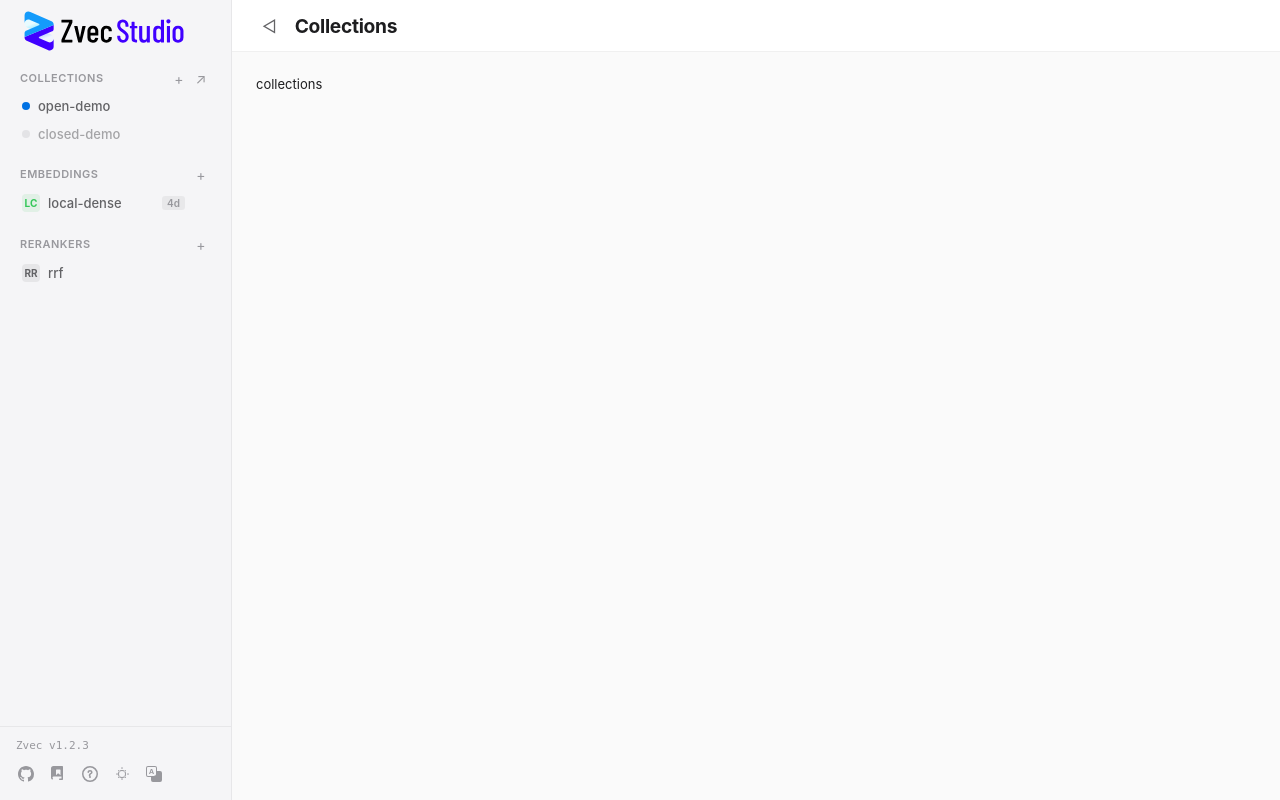
Test case: AppShell › opens the import-collection dialog from the "+" menu
Click the button with test id "zv-collections-add".
click(179, 78)  # box [169,68,189,88]
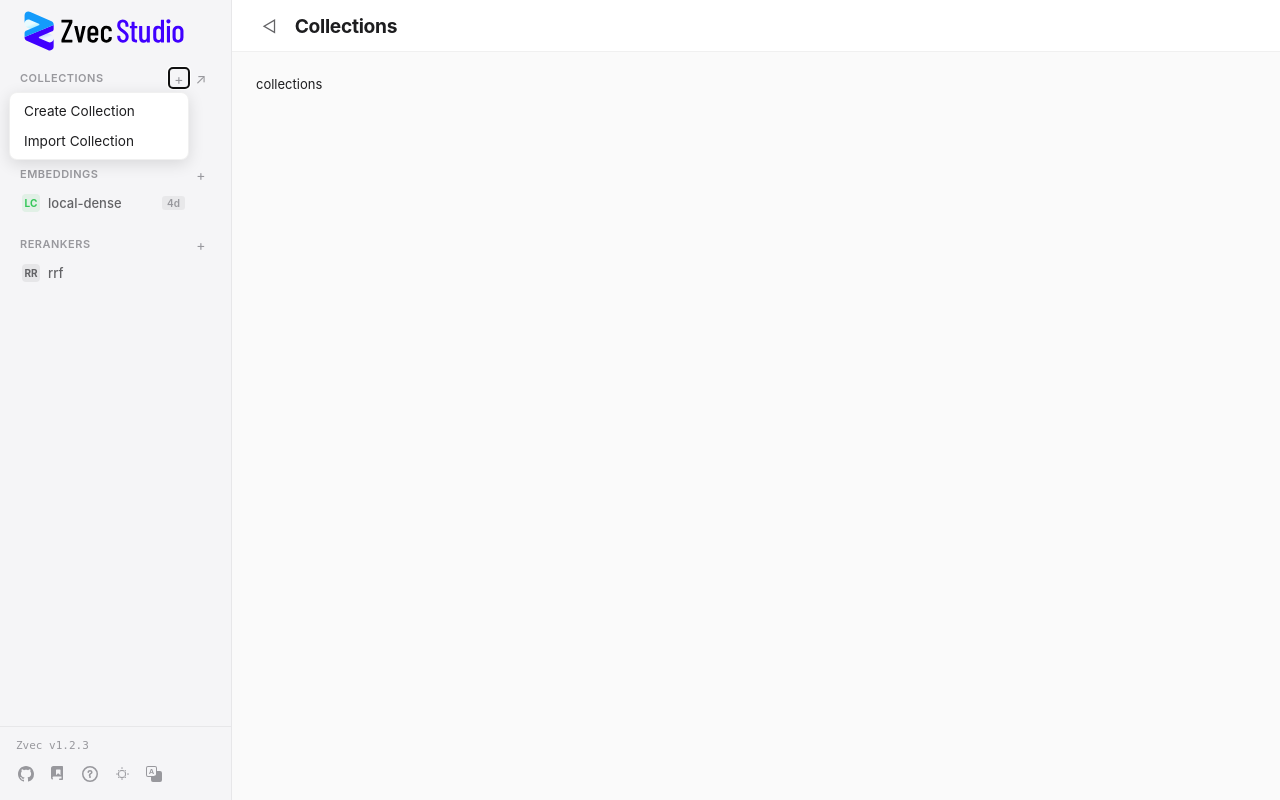
Click the menu item with test id "zv-collections-menu-import".
click(99, 141)  # box [14,127,184,155]
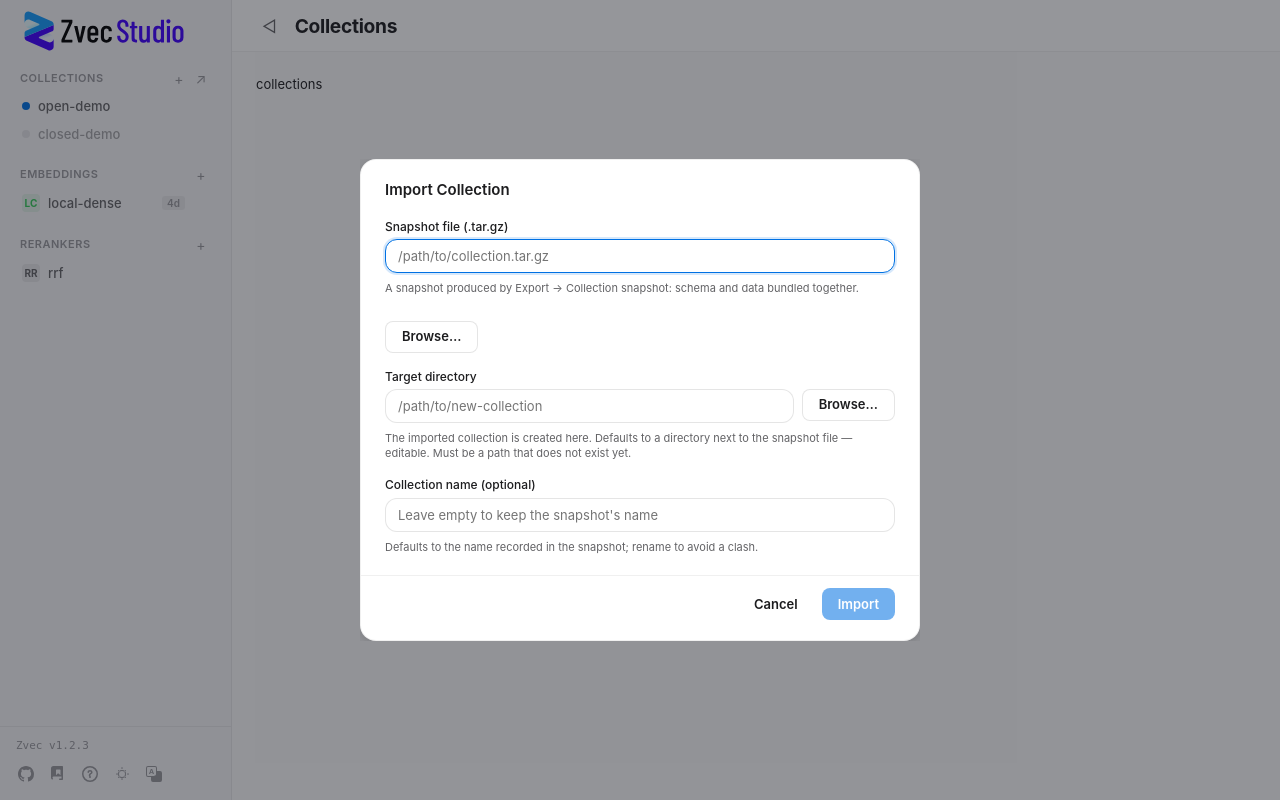
Now the dialog "Import Collection" is shown, box [360,159,920,641]
